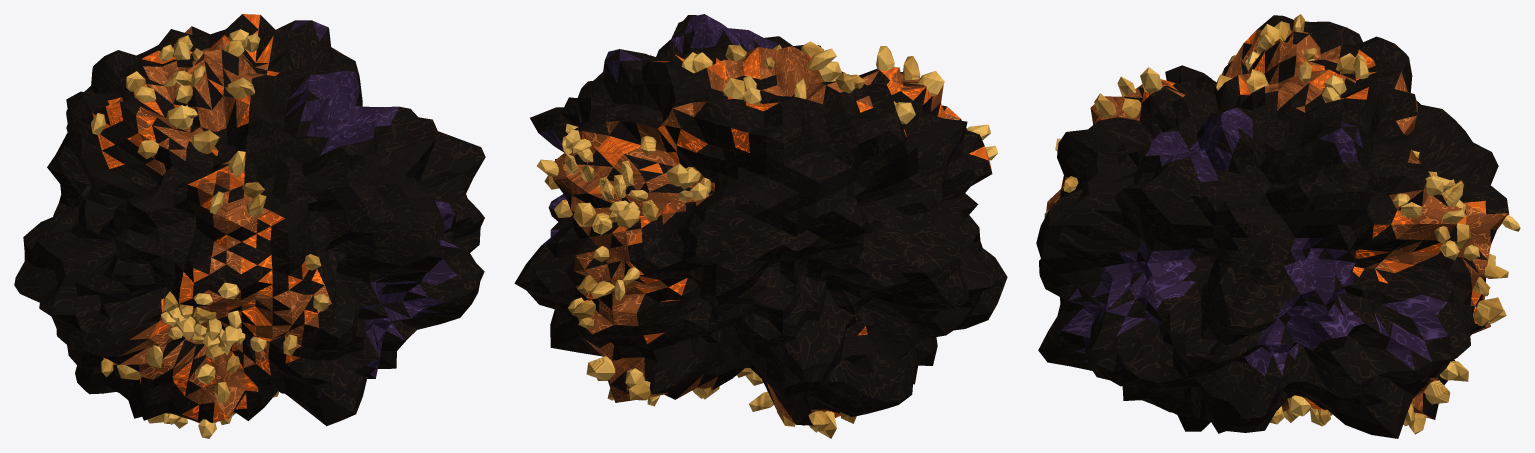
File: motil-rock.glb
The picture shows the model from 3 angles, left to right: view 1: azimuth 30°, elevation 25°; view 2: azimuth 150°, elevation 25°; view 3: azimuth 270°, elevation 25°; orthographic projection. The views are drawn at different scales.
Parts seen in each view (by area): view 1: 01_Basalt_dark_fractured, 02_Chalcopyrite_Copper_Gold, crystal_clusters, 03_Bornite_Blue_Violet, 04_Molten_Amber_Emissive; view 2: 01_Basalt_dark_fractured, crystal_clusters, 02_Chalcopyrite_Copper_Gold, 04_Molten_Amber_Emissive, 03_Bornite_Blue_Violet; view 3: 01_Basalt_dark_fractured, 03_Bornite_Blue_Violet, crystal_clusters, 02_Chalcopyrite_Copper_Gold, 04_Molten_Amber_Emissive.
Boxes of the visible parts, x1,y1,x2,y2 form: 01_Basalt_dark_fractured: (14, 14, 485, 426); 02_Chalcopyrite_Copper_Gold: (115, 26, 331, 418); crystal_clusters: (91, 29, 328, 438); 03_Bornite_Blue_Violet: (285, 20, 460, 378); 04_Molten_Amber_Emissive: (92, 14, 324, 422); 01_Basalt_dark_fractured: (514, 15, 1007, 425); crystal_clusters: (537, 41, 997, 438); 02_Chalcopyrite_Copper_Gold: (552, 46, 971, 424); 04_Molten_Amber_Emissive: (562, 47, 991, 417); 03_Bornite_Blue_Violet: (538, 14, 779, 245); 01_Basalt_dark_fractured: (1036, 15, 1508, 438); 03_Bornite_Blue_Violet: (1061, 107, 1447, 375); crystal_clusters: (1044, 14, 1520, 434); 02_Chalcopyrite_Copper_Gold: (1046, 29, 1507, 419); 04_Molten_Amber_Emissive: (1061, 30, 1508, 410).
Bounding box in the file's own units: 2.77 × 2.19 × 2.49.
Materials: 5 (5 with a texture image).
